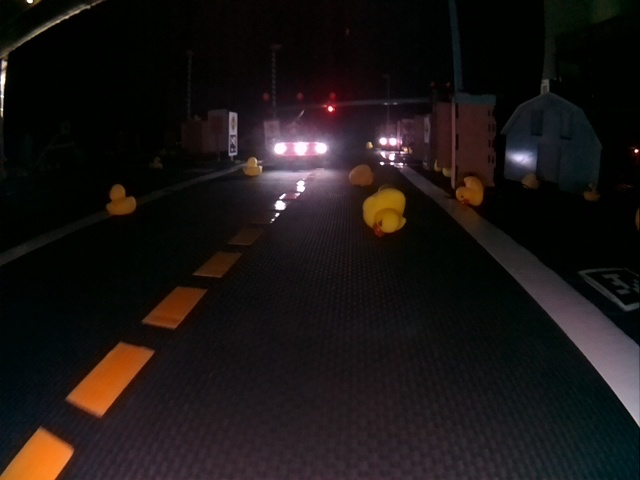Duckie: (365, 189, 406, 231), (107, 187, 136, 214), (457, 177, 482, 205), (351, 164, 375, 185), (245, 158, 261, 174)
Duckiebot: (274, 135, 329, 162)
QR code: (582, 266, 637, 311)
